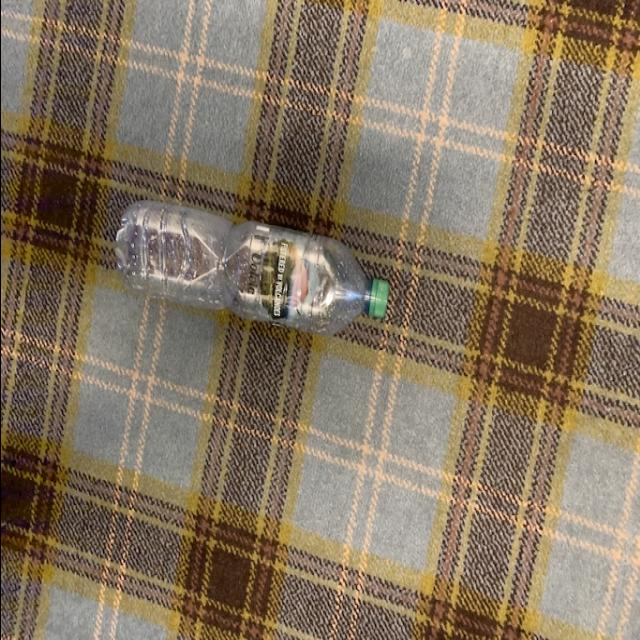PET: (110, 199, 388, 335)
